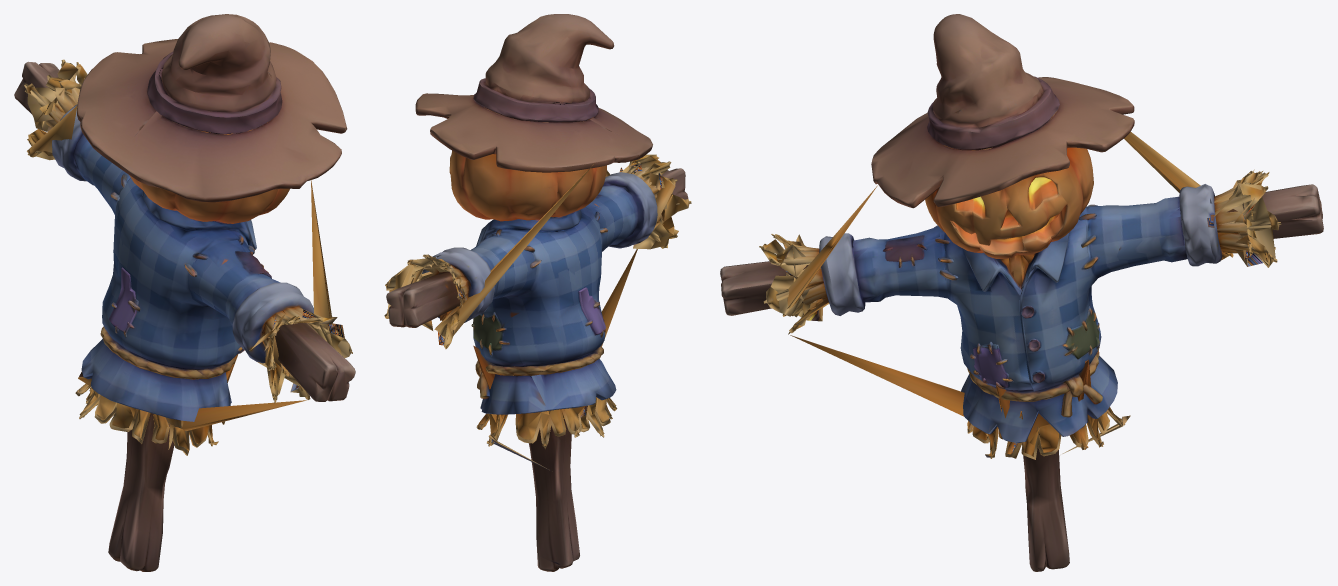
File: L5_Scarecrow_LOD0.fbx
The picture shows the model from 3 angles, left to right: view 1: azimuth 30°, elevation 25°; view 2: azimuth 150°, elevation 25°; view 3: azimuth 270°, elevation 25°; orthographic projection. The views are drawn at different scales.
Visible parts, largest first — view 1: L5_Scarecrow_LOD0; view 2: L5_Scarecrow_LOD0; view 3: L5_Scarecrow_LOD0.
Part boxes in pixels (<box>): L5_Scarecrow_LOD0: <box>14,14,355,571</box>; L5_Scarecrow_LOD0: <box>384,14,691,571</box>; L5_Scarecrow_LOD0: <box>720,14,1323,571</box>.
Size of the model in its own units: 0.94 by 2.2 by 2.14.
1 material, 1 textured.
